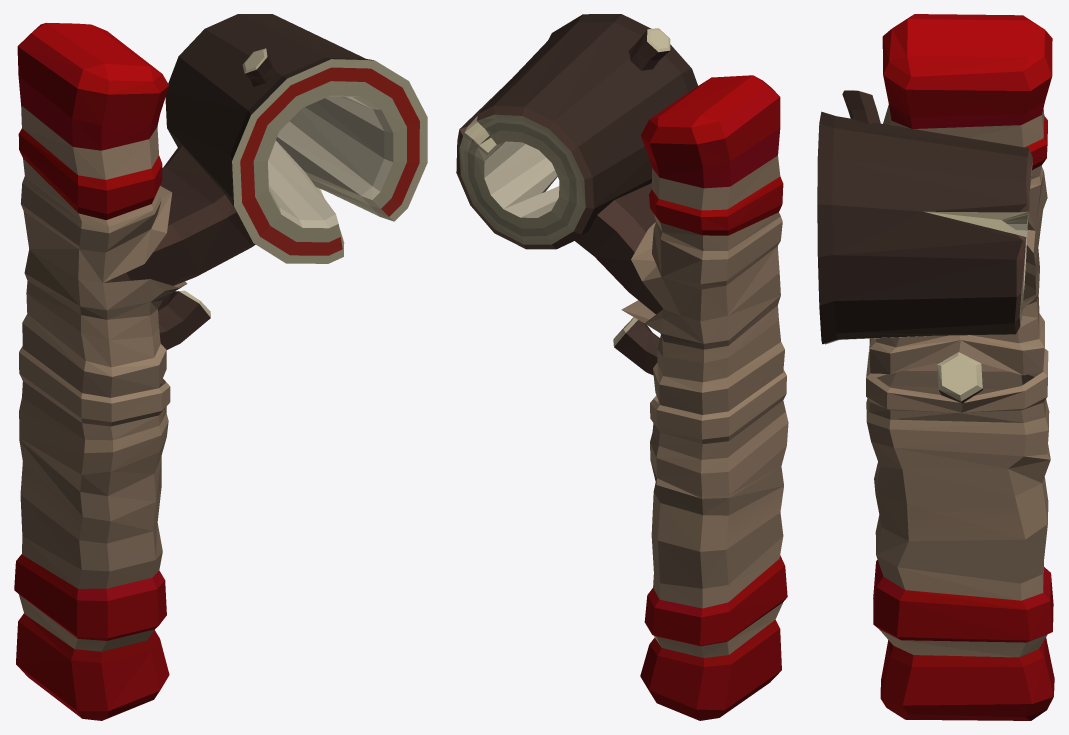
File: largeBowDefaultHandle.glb
3 renders of one model, left to right at view 1: azimuth 30°, elevation 25°; view 2: azimuth 150°, elevation 25°; view 3: azimuth 270°, elevation 25°, orthographic. The views are drawn at different scales.
Visible parts, largest first — view 1: largeBowDefaultHandle; view 2: largeBowDefaultHandle; view 3: largeBowDefaultHandle.
Part boxes in pixels (left/top/right/bottom): largeBowDefaultHandle: left=14, top=14, right=427, bottom=720; largeBowDefaultHandle: left=456, top=14, right=788, bottom=720; largeBowDefaultHandle: left=817, top=14, right=1054, bottom=720.
Size of the model in its own units: 0.1738 by 0.3477 by 0.1088.
